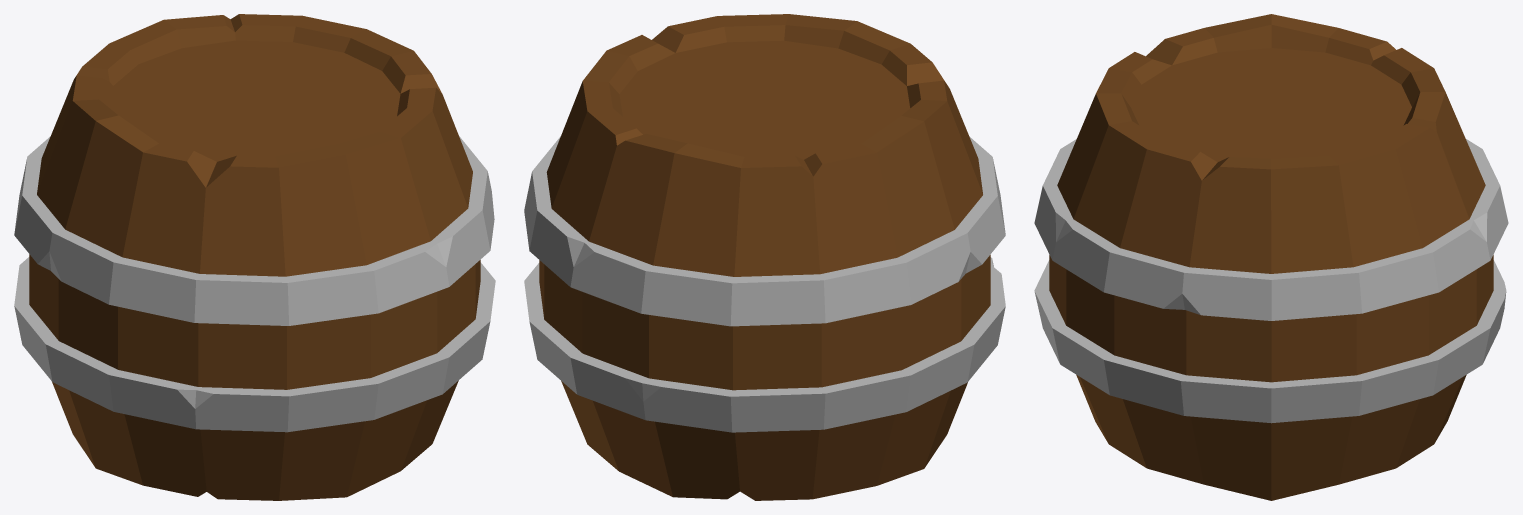
File: LowPolyKeg1.glb
The picture shows the model from 3 angles, left to right: view 1: azimuth 30°, elevation 25°; view 2: azimuth 150°, elevation 25°; view 3: azimuth 270°, elevation 25°; orthographic projection. The views are drawn at different scales.
Parts seen in each view (by area): view 1: Cylinder; view 2: Cylinder; view 3: Cylinder.
Part boxes in pixels (x1,y1,x2,y2): Cylinder: (14, 14, 495, 500); Cylinder: (524, 14, 1005, 500); Cylinder: (1034, 14, 1508, 500).
Bounding box in the file's own units: 263 × 212 × 269.
